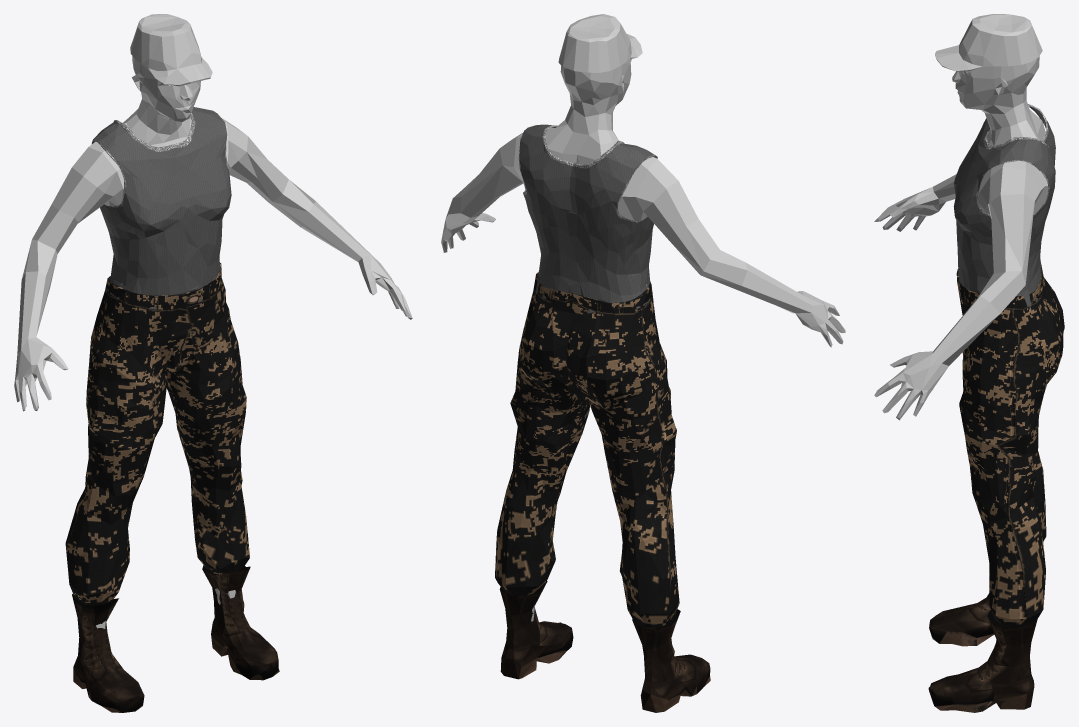
The model's file is noninjured_soldier1.fbx.
The picture shows the model from 3 angles, left to right: view 1: azimuth 30°, elevation 25°; view 2: azimuth 150°, elevation 25°; view 3: azimuth 270°, elevation 25°; orthographic projection.
Visible parts, largest first — view 1: noninjured_soldier; view 2: noninjured_soldier; view 3: noninjured_soldier.
Part boxes in pixels (x1=…): noninjured_soldier: x1=14, y1=14, x2=412, y2=712; noninjured_soldier: x1=441, y1=14, x2=845, y2=712; noninjured_soldier: x1=874, y1=14, x2=1064, y2=712.
Size of the model in its own units: 372 by 596 by 158.
